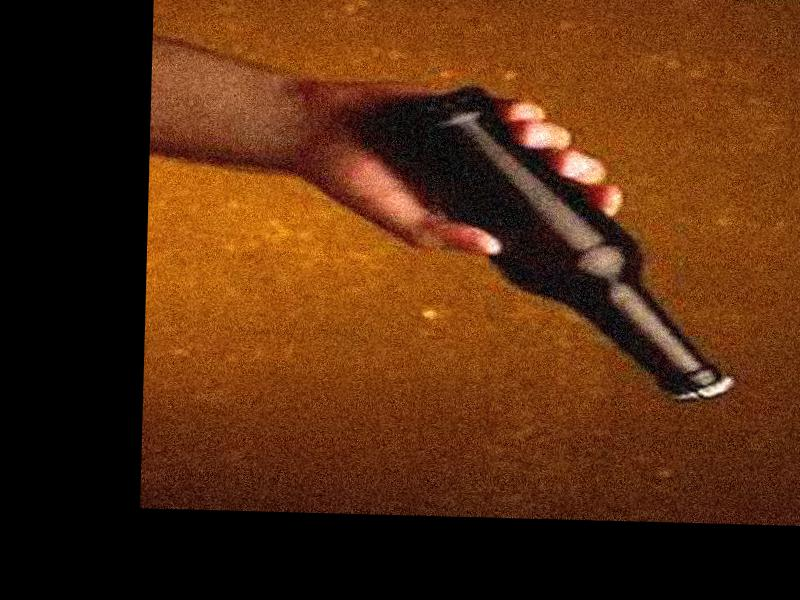Beer: (338, 83, 746, 404)
